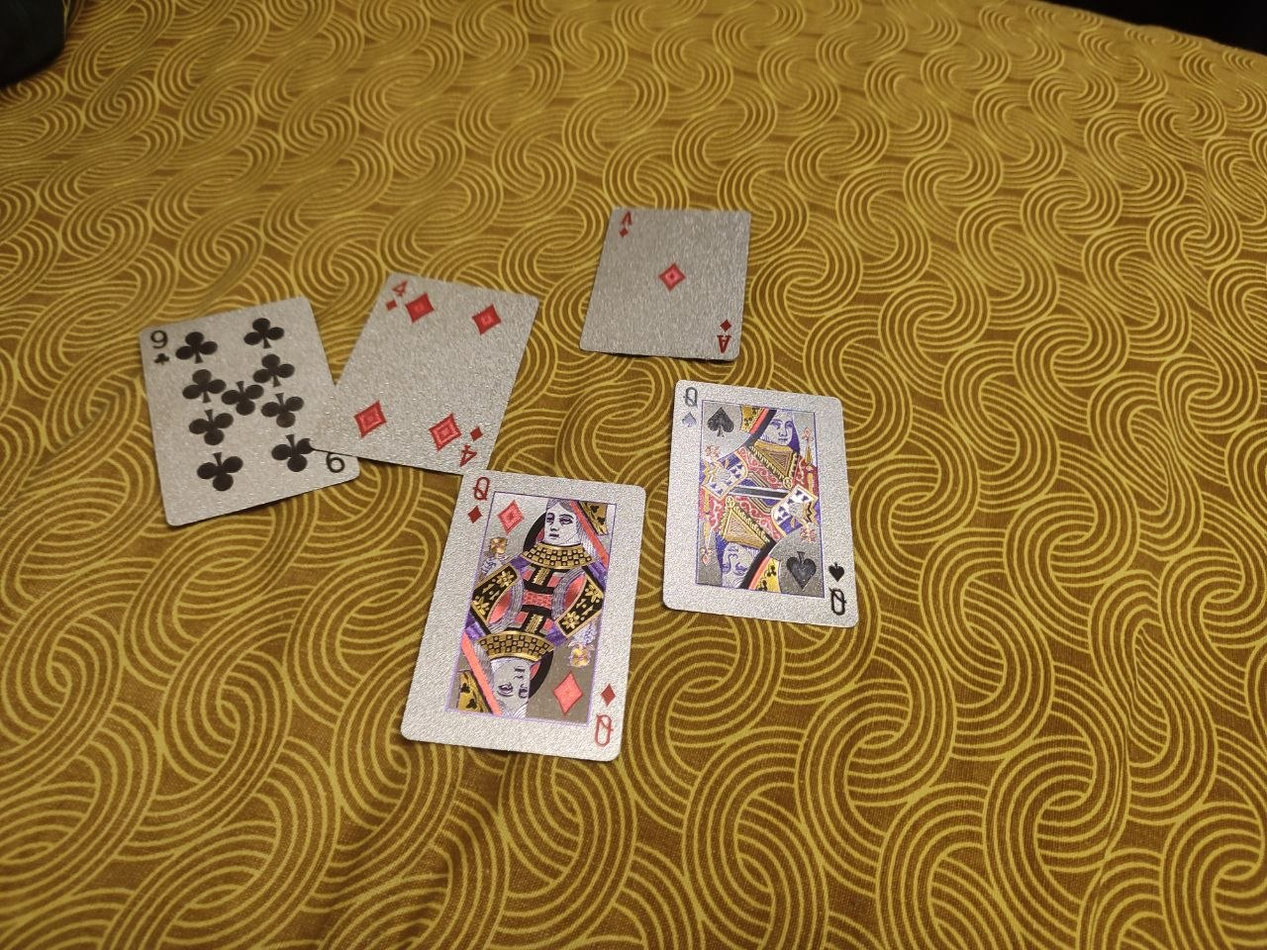4D: (137, 293, 365, 529)
9C: (310, 270, 544, 477)
AD: (574, 203, 756, 361)
QD: (399, 467, 649, 766)
QS: (663, 381, 860, 629)
